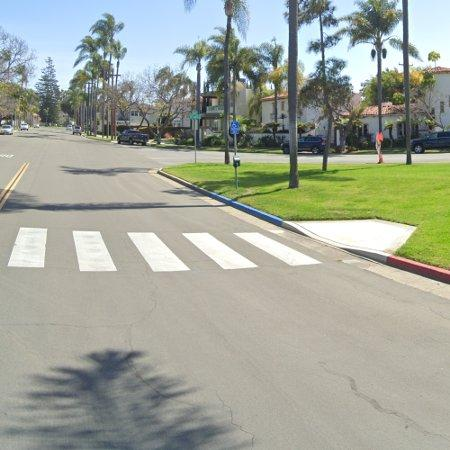crosswalks: (5, 226, 329, 274)
